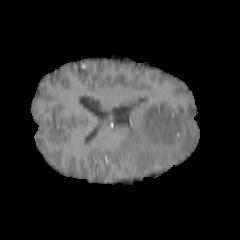glioma: (118, 102, 199, 174)
